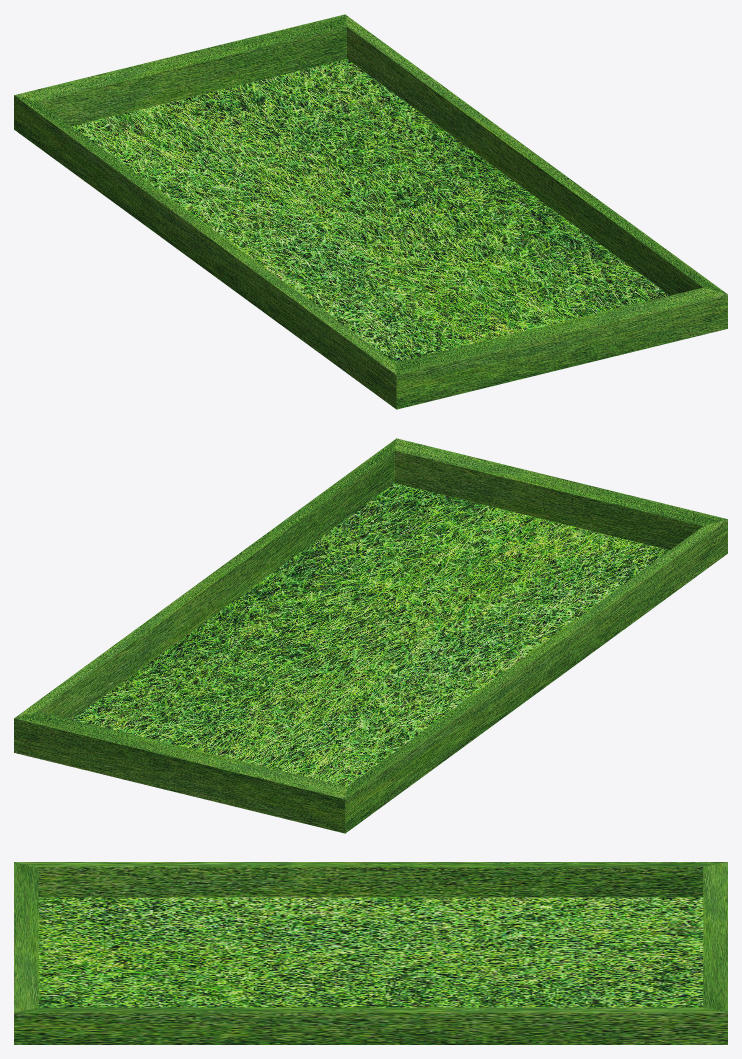
File: table.obj
3 renders of one model, top to bottom at view 1: azimuth 30°, elevation 25°; view 2: azimuth 150°, elevation 25°; view 3: azimuth 270°, elevation 25°, orthographic. The views are drawn at different scales.
Parts seen in each view (by area): view 1: Cube.003; view 2: Cube.003; view 3: Cube.003.
Part boxes in pixels (x1=…): Cube.003: x1=14, y1=14, x2=727, y2=409; Cube.003: x1=14, y1=438, x2=727, y2=833; Cube.003: x1=14, y1=862, x2=727, y2=1044.
Bounding box in the file's own units: 10 × 0.9909 × 20.
